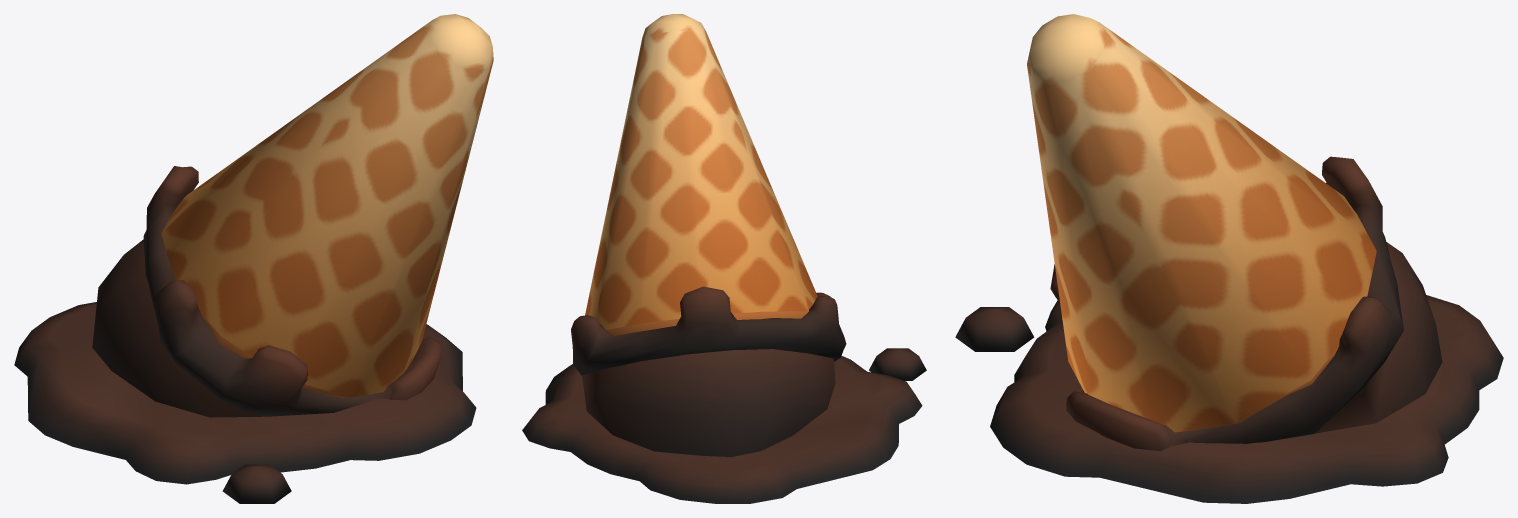
Rendered from m_SpilledIceCream04.fbx.
The picture shows the model from 3 angles, left to right: view 1: azimuth 30°, elevation 25°; view 2: azimuth 150°, elevation 25°; view 3: azimuth 270°, elevation 25°; orthographic projection. The views are drawn at different scales.
Parts seen in each view (by area): view 1: m_SpilledIceCream04; view 2: m_SpilledIceCream04; view 3: m_SpilledIceCream04.
Boxes of the visible parts, x1,y1,x2,y2 form: m_SpilledIceCream04: (14,14,493,503); m_SpilledIceCream04: (522,14,926,503); m_SpilledIceCream04: (955,14,1503,503).
Size of the model in its own units: 12.21 by 11.36 by 12.68.
